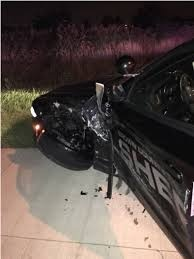Smashed: (58, 76, 128, 165)
